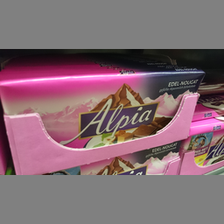chocolate: (1, 69, 203, 151)
